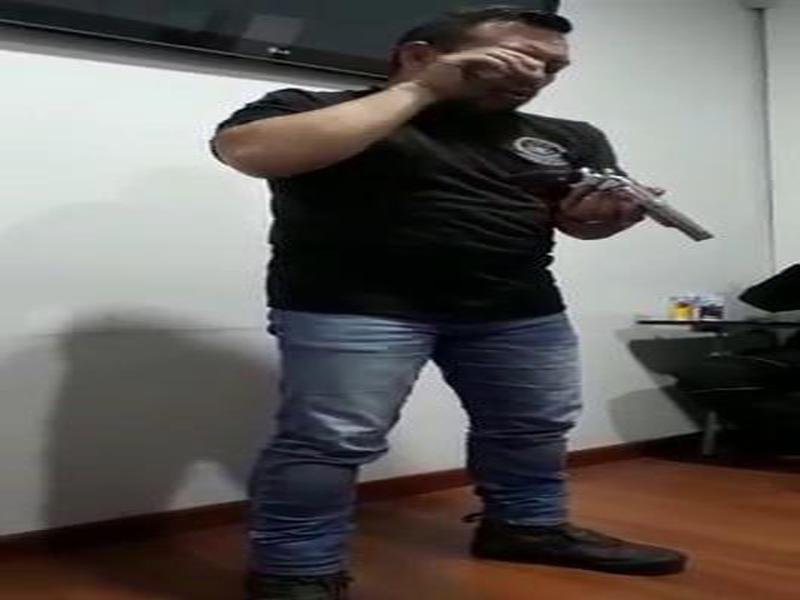Revolver: (494, 135, 737, 268)
